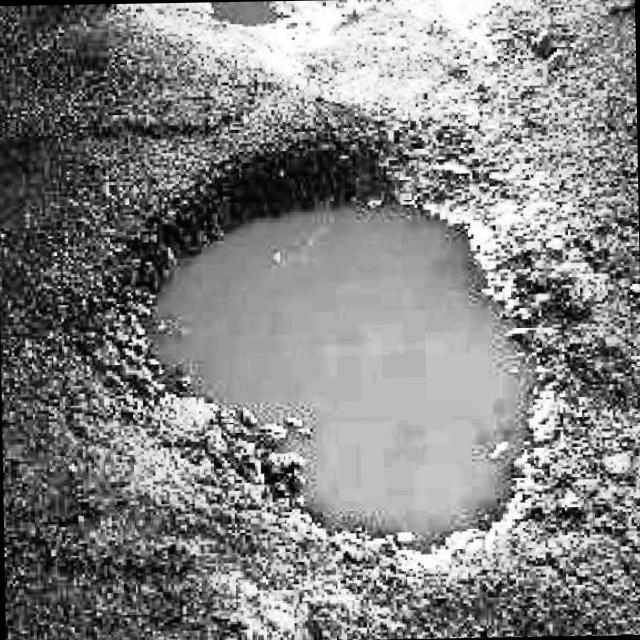Pothole: (80, 122, 586, 584), (191, 0, 306, 33)
